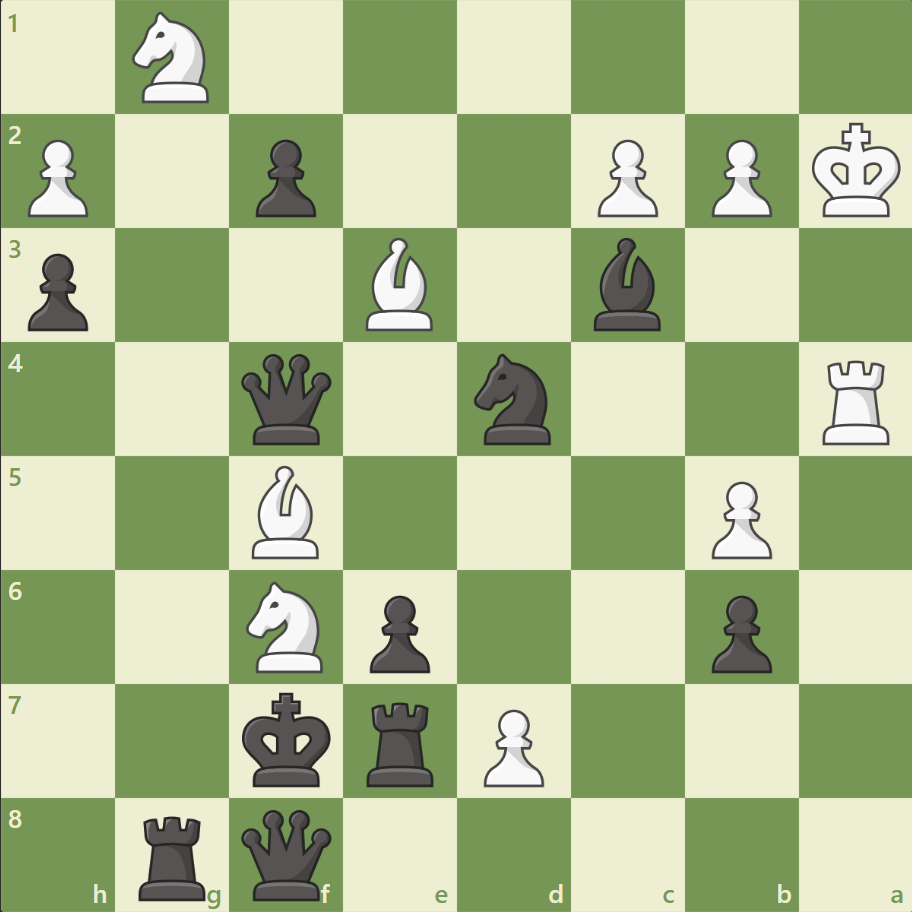B: (244, 460, 328, 563), (358, 233, 442, 336)
K: (806, 117, 906, 225)
N: (124, 7, 222, 110), (238, 575, 335, 677)
P: (474, 700, 549, 791), (701, 473, 776, 564), (701, 132, 776, 223), (20, 132, 95, 223), (588, 132, 662, 223)
R: (814, 352, 897, 449)
b: (585, 233, 669, 336)
k: (238, 685, 338, 793)
n: (465, 348, 562, 450)
p: (701, 586, 776, 677), (20, 246, 95, 337), (247, 132, 322, 223), (361, 586, 435, 677)
q: (237, 349, 336, 449), (237, 804, 336, 903)
r: (133, 806, 215, 904), (360, 693, 442, 790)
